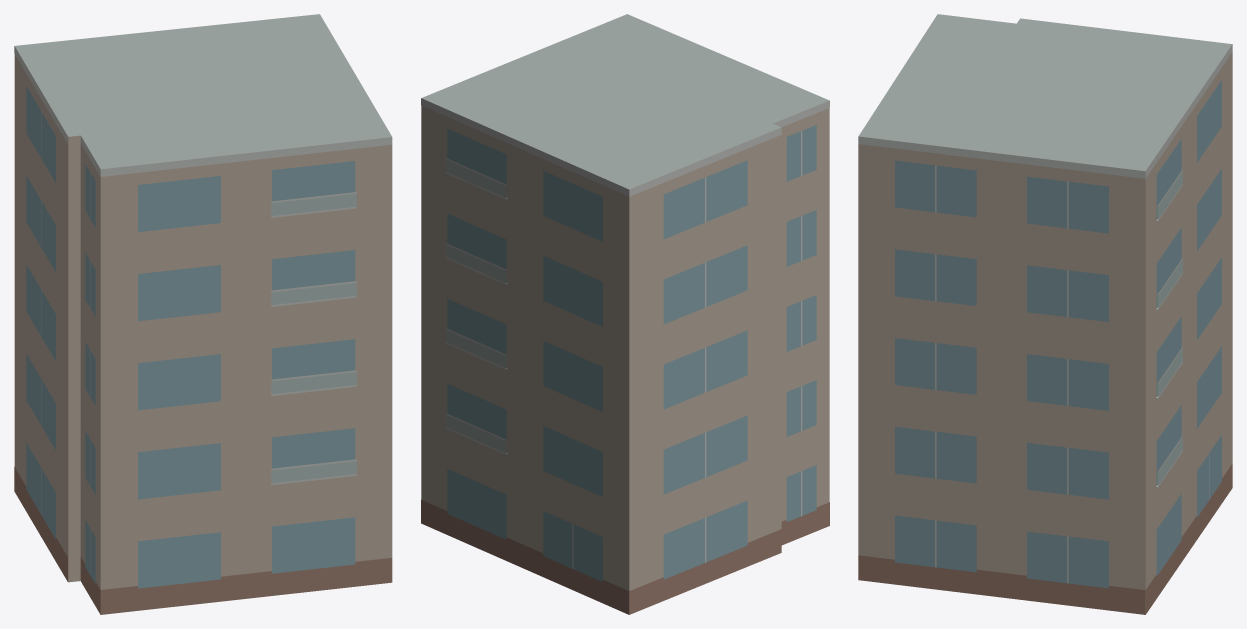
File: survey-upis-32535503.glb
The picture shows the model from 3 angles, left to right: view 1: azimuth 30°, elevation 25°; view 2: azimuth 150°, elevation 25°; view 3: azimuth 270°, elevation 25°; orthographic projection. The views are drawn at different scales.
Visible parts, largest first — view 1: survey-upis-32535503.tmp; view 2: survey-upis-32535503.tmp; view 3: survey-upis-32535503.tmp.
Boxes of the visible parts, box(x1,y1,x2,y2) form: survey-upis-32535503.tmp: box(14, 14, 392, 614); survey-upis-32535503.tmp: box(421, 14, 829, 614); survey-upis-32535503.tmp: box(858, 14, 1232, 614).
Bounding box in the file's own units: 10.88 × 14.3 × 10.94.
